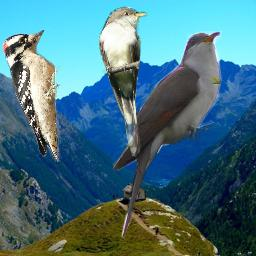Cuckoo: (112, 31, 222, 241), (99, 6, 148, 157)
Woodpecker: (2, 30, 61, 162)
